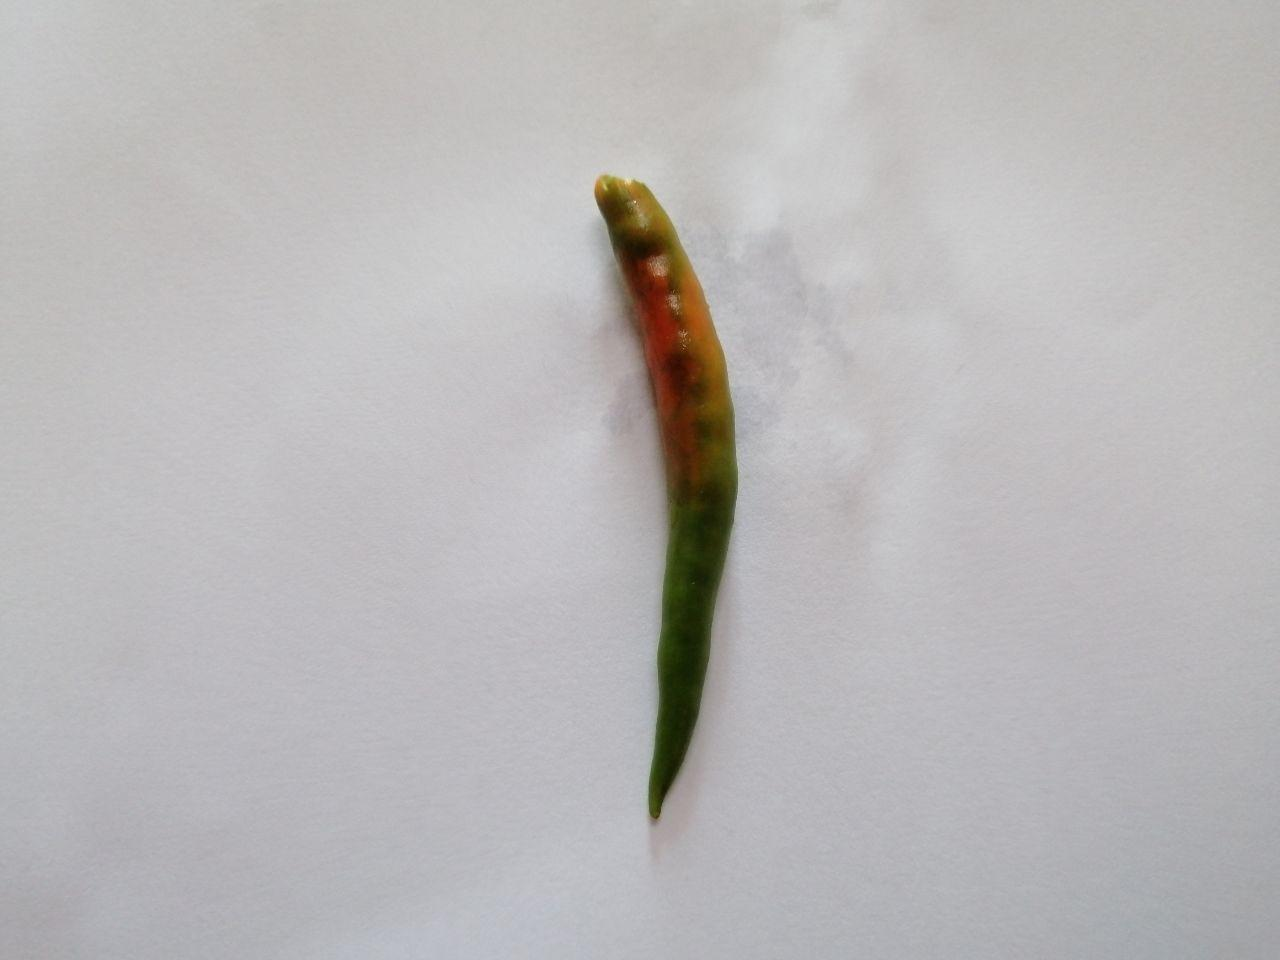lada kuning: (553, 155, 763, 834)
